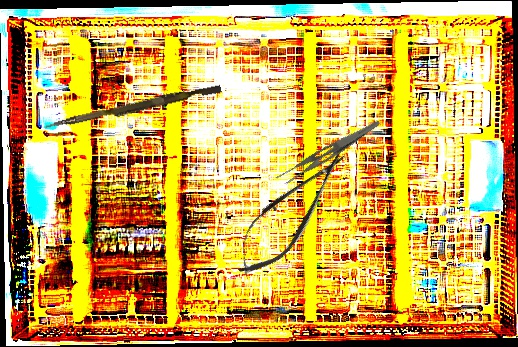Dressing Forceps: (274, 109, 381, 192)
Micro Scissor: (222, 138, 360, 287)
Pusher: (44, 80, 222, 136)
